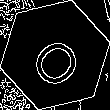O_NE: (22, 22, 88, 88)
